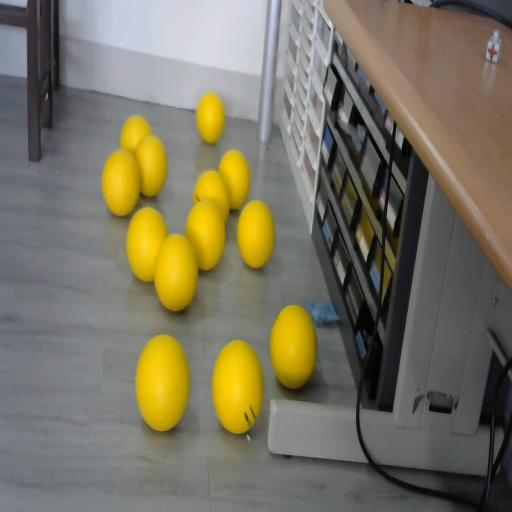FUEL: (134, 332, 190, 432), (211, 338, 264, 434), (270, 304, 316, 389), (126, 206, 168, 282), (186, 198, 226, 271), (236, 199, 276, 269), (102, 149, 141, 217), (134, 134, 168, 198), (219, 149, 251, 210), (196, 92, 225, 144)
